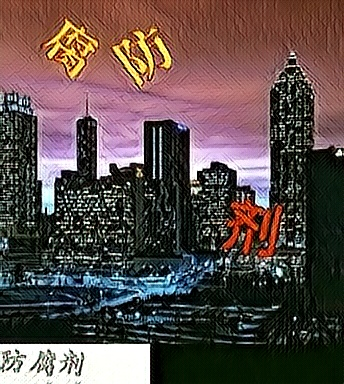B7C0: (114, 24, 174, 88)
B8AF: (38, 18, 98, 82)
BCC1: (224, 199, 284, 263)
